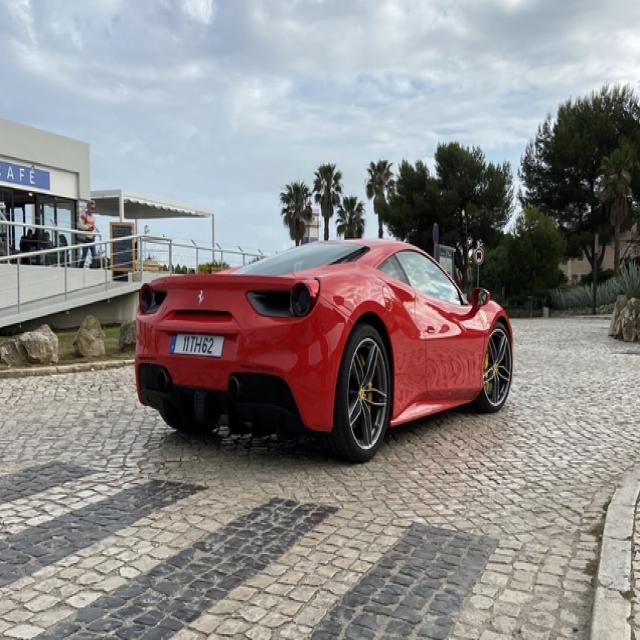portuguese-license-plates: (167, 330, 226, 358)
